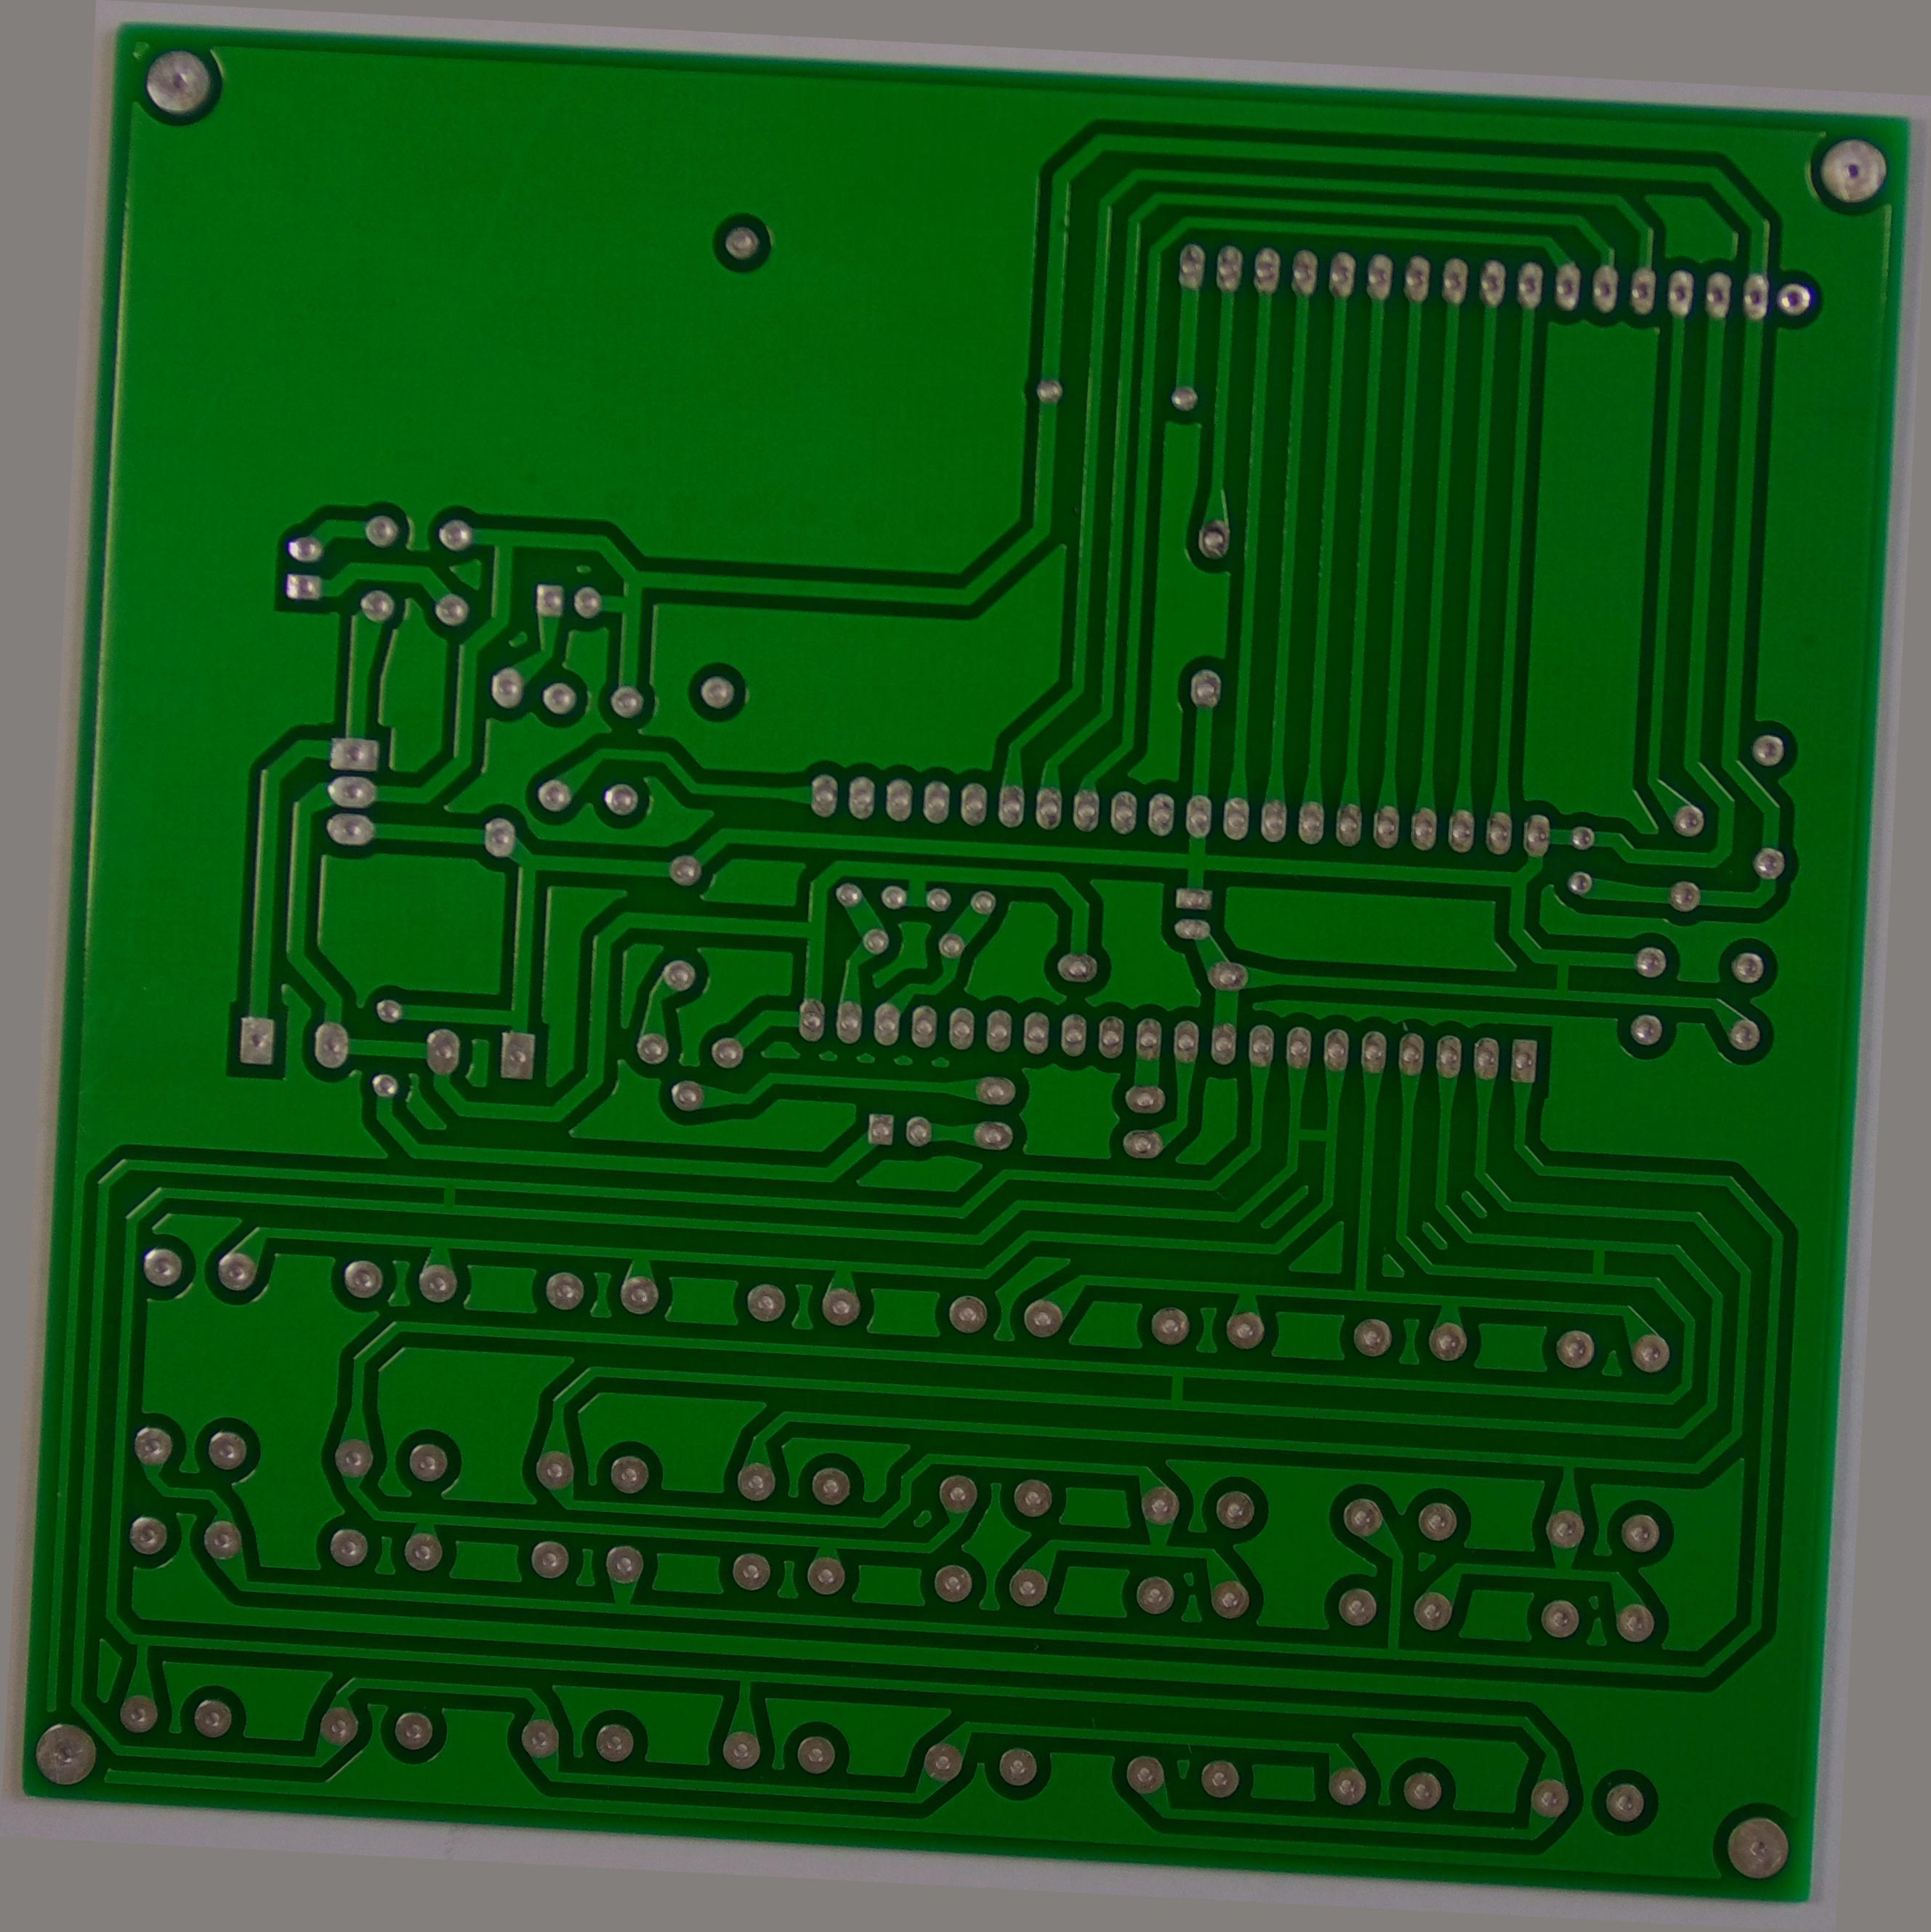short: (1533, 938, 1588, 1008), (1576, 1228, 1618, 1295), (1156, 1359, 1201, 1421), (1277, 1116, 1344, 1157), (428, 1173, 469, 1224)
